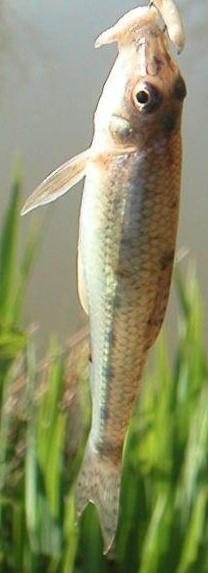Gobio gobio: (20, 20, 188, 553)
